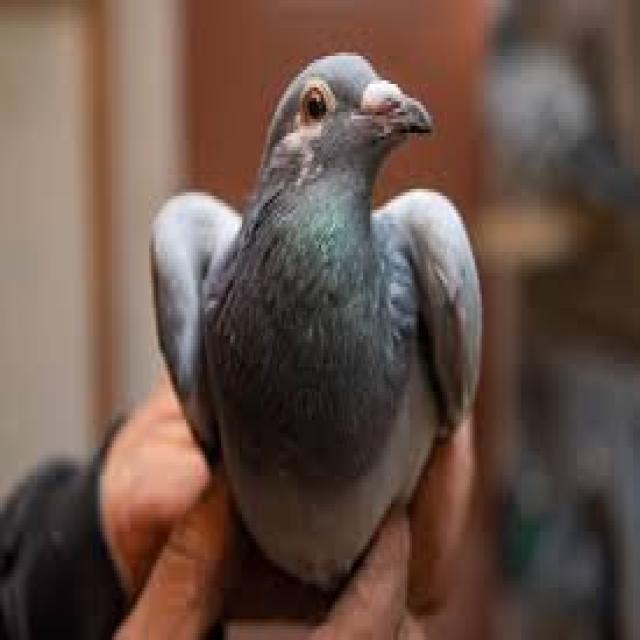Pigeon: (152, 40, 488, 597)
